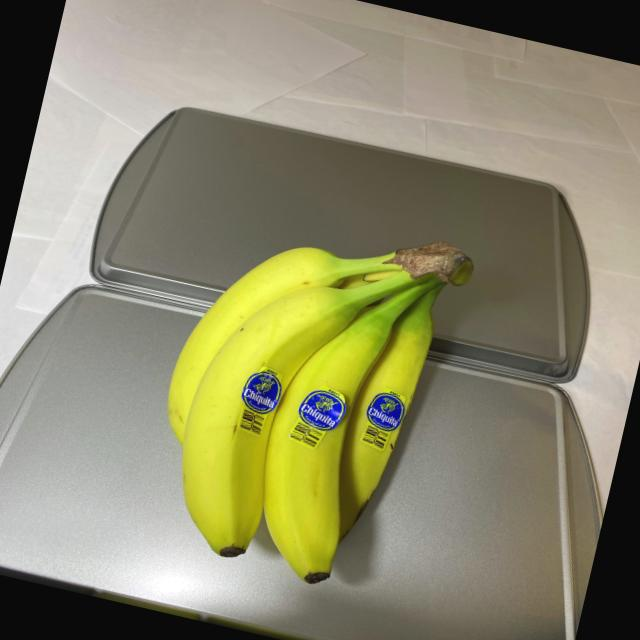banana: (120, 183, 482, 614)
